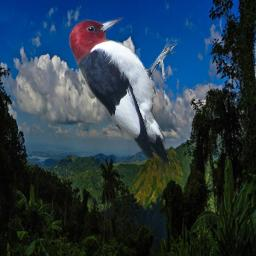Woodpecker: (68, 17, 180, 164)
